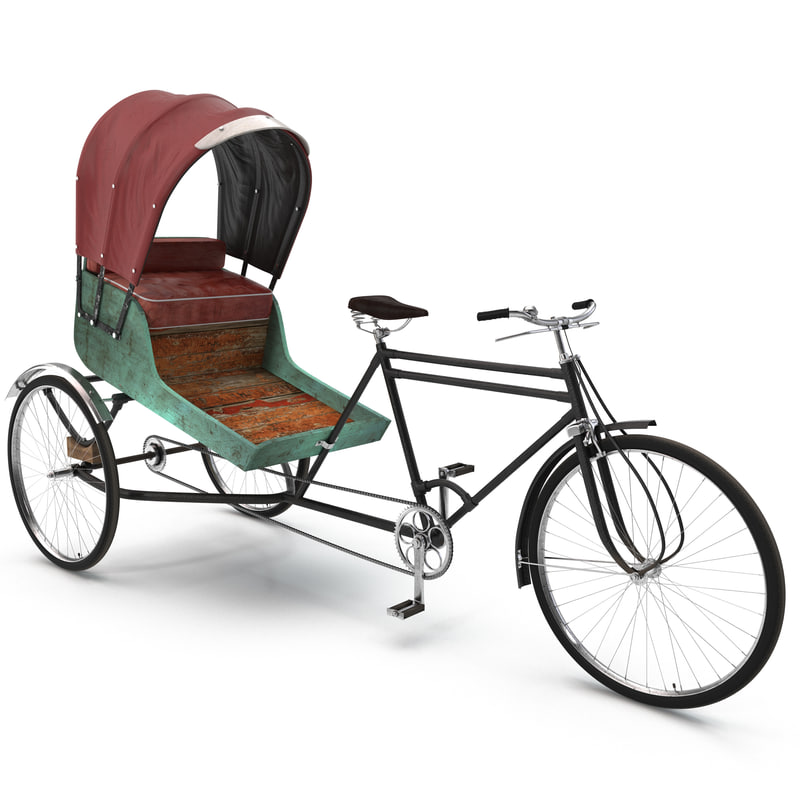Rickshaw: (17, 83, 784, 706)
